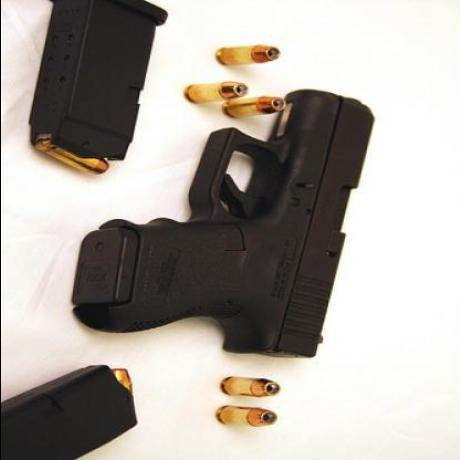weapon: (58, 84, 384, 374)
